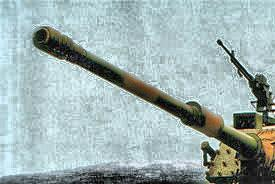tanks: (34, 28, 275, 184)
